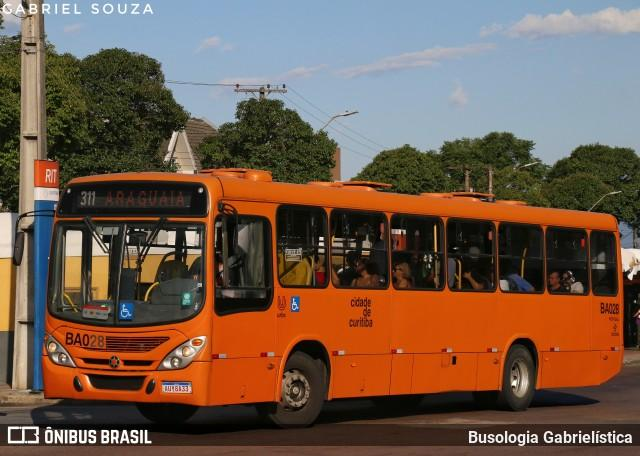ARAGUAIA: (97, 186, 189, 210)
